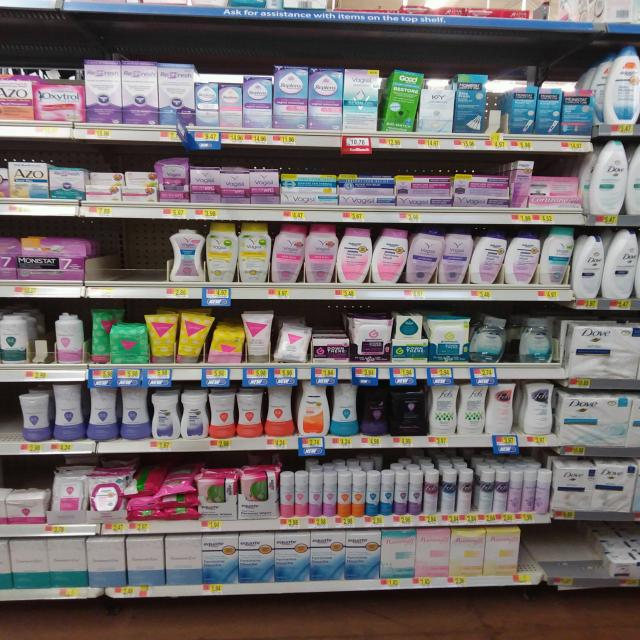empty: (79, 223, 169, 290), (521, 514, 605, 580), (1, 395, 24, 445)
